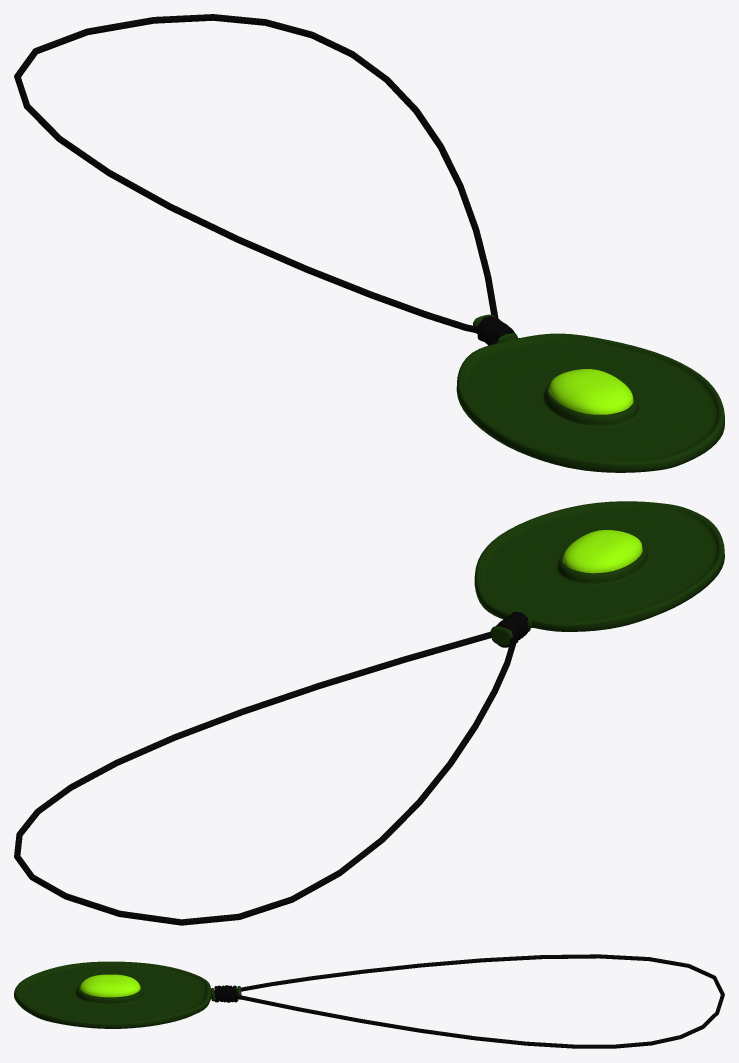
The model's file is artifact.glb.
3 views of the same model, one above another, from view 1: azimuth 30°, elevation 25°; view 2: azimuth 150°, elevation 25°; view 3: azimuth 270°, elevation 25° (orthographic). The views are drawn at different scales.
Visible parts, largest first — view 1: Amulet_HP.002, Cord.001, Jade.001; view 2: Amulet_HP.002, Cord.001, Jade.001; view 3: Amulet_HP.002, Cord.001, Jade.001, Cord screw.001.
Boxes of the visible parts, bbox=[...] form: Amulet_HP.002: bbox=[456, 314, 724, 472]; Cord.001: bbox=[14, 14, 498, 333]; Jade.001: bbox=[549, 369, 633, 414]; Amulet_HP.002: bbox=[474, 501, 724, 645]; Cord.001: bbox=[14, 631, 516, 925]; Jade.001: bbox=[563, 530, 642, 573]; Amulet_HP.002: bbox=[14, 961, 241, 1028]; Cord.001: bbox=[236, 954, 724, 1048]; Jade.001: bbox=[80, 974, 140, 997]; Cord screw.001: bbox=[214, 985, 238, 1002].
Bounding box in the file's own units: 0.0545 × 0.00615 × 0.1782.
